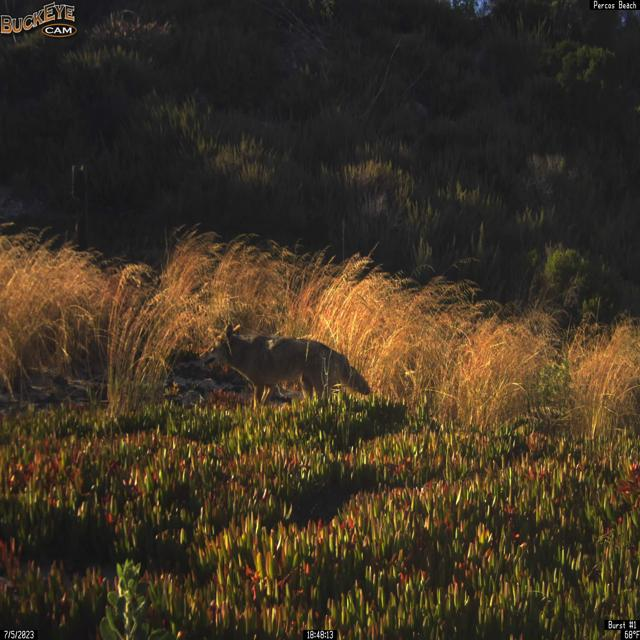coyote: (198, 322, 372, 411)
